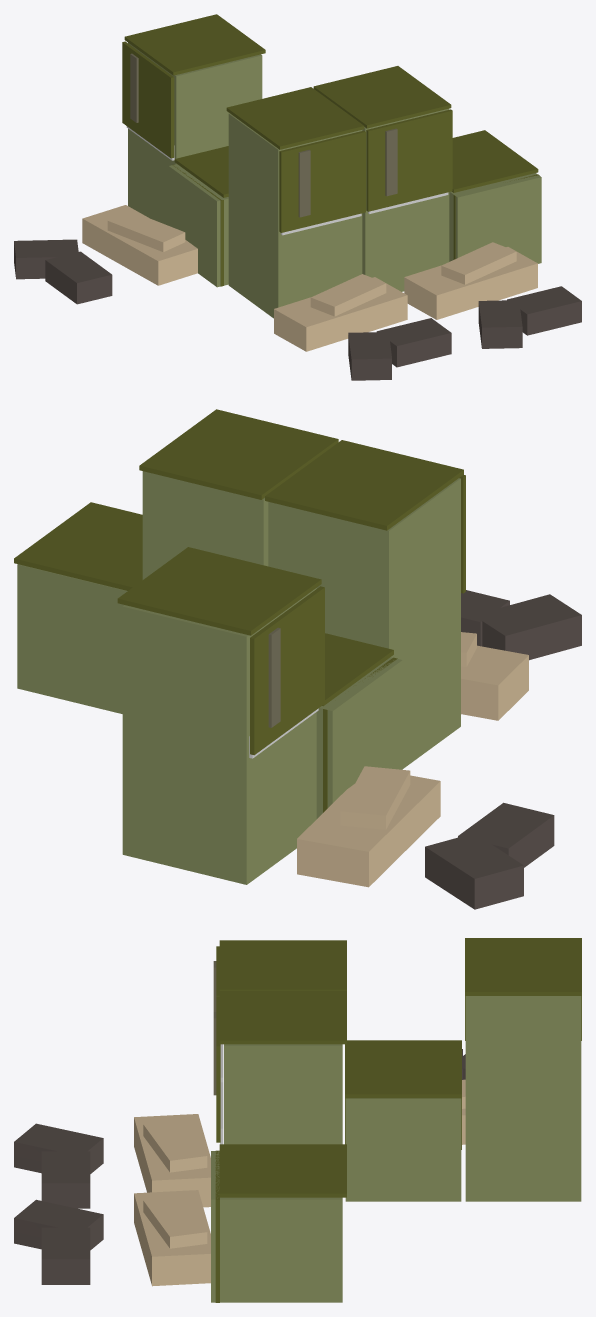
Rendered from SM_HescoEsquina_v4_Red_e1_Danado_LOD1.fbx.
3 renders of one model, top to bottom at view 1: azimuth 30°, elevation 25°; view 2: azimuth 150°, elevation 25°; view 3: azimuth 270°, elevation 25°, orthographic. The views are drawn at different scales.
Parts seen in each view (by area): view 1: SM_hesco_piezas_v17_LOD1; view 2: SM_hesco_piezas_v17_LOD1; view 3: SM_hesco_piezas_v17_LOD1.
Part boxes in pixels (x1,y1,x2,y2): SM_hesco_piezas_v17_LOD1: (14,14,581,380); SM_hesco_piezas_v17_LOD1: (14,409,581,909); SM_hesco_piezas_v17_LOD1: (14,938,581,1302).
Size of the model in its own units: 5.25 by 2.16 by 5.25.
